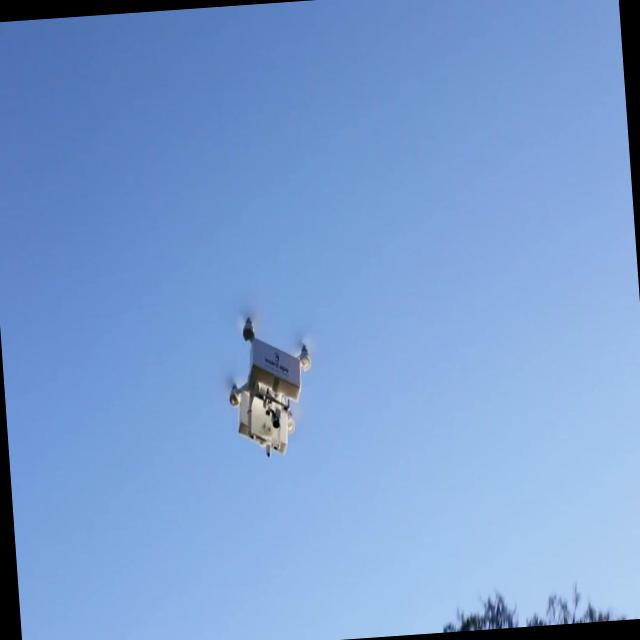drone: (223, 306, 318, 464)
